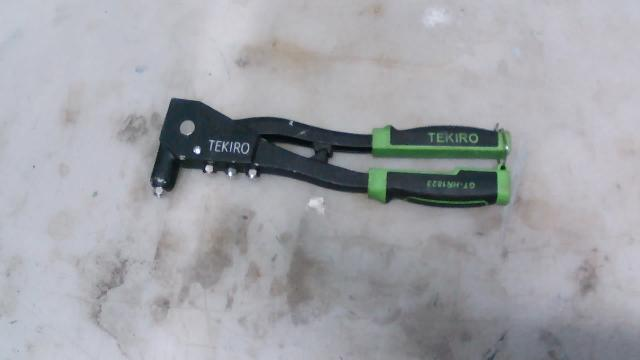tang_rivet: (138, 75, 535, 259)
